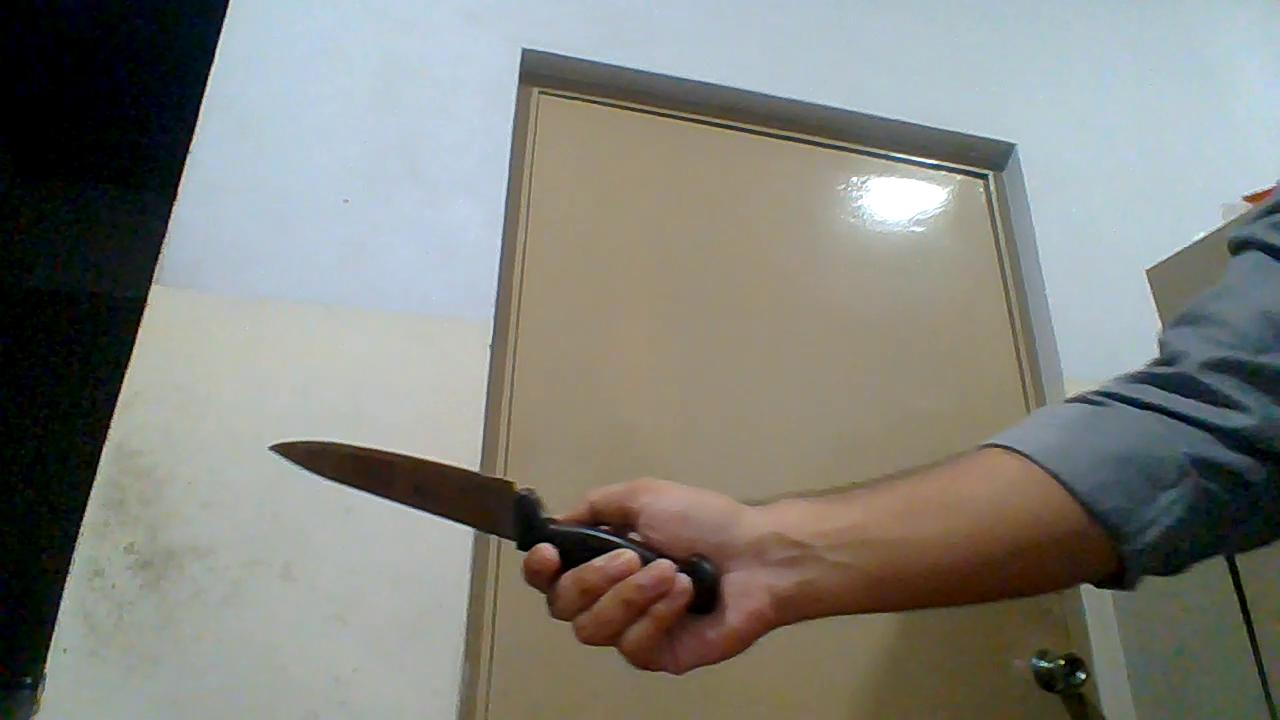weapon: (265, 437, 717, 622)
